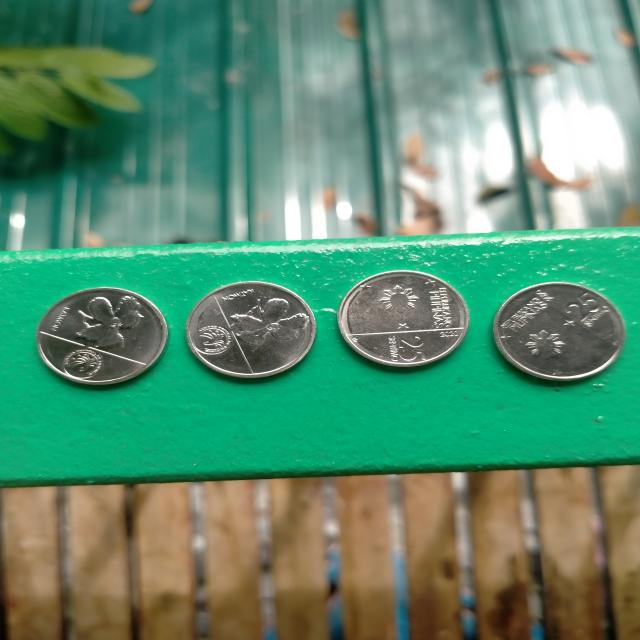25Cent_New_Back: (200, 294, 311, 360)
25Cent_New_Front: (504, 285, 606, 364)
